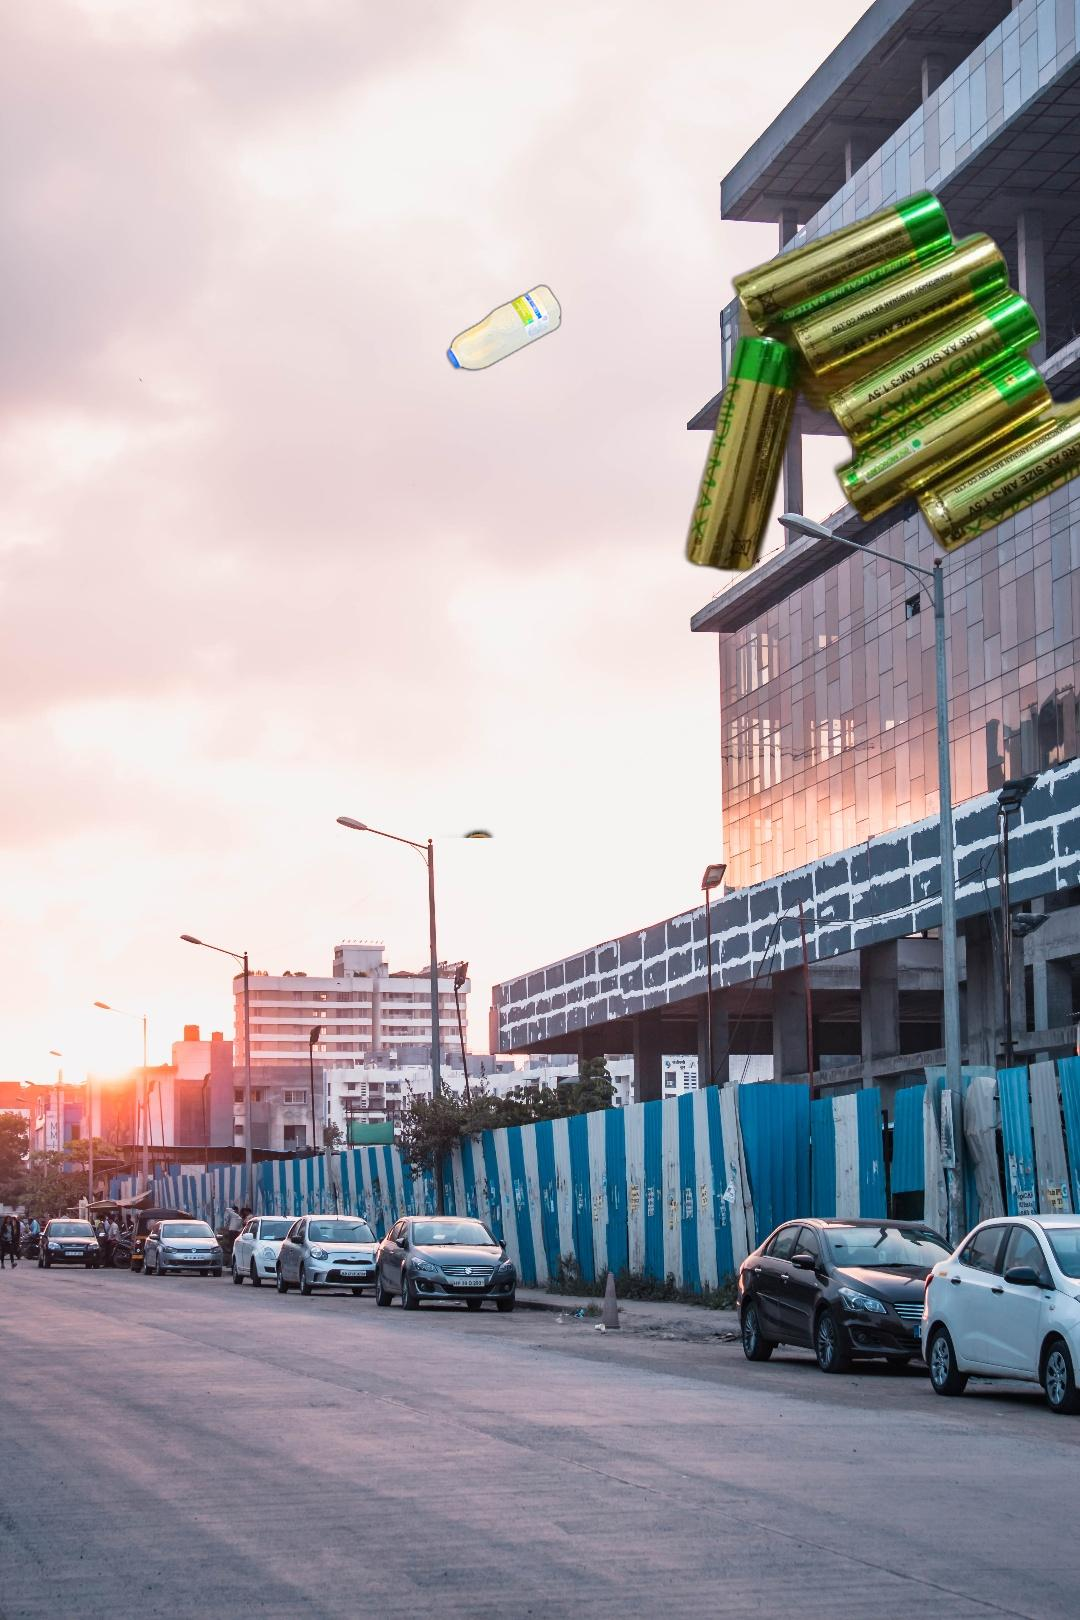battery: (677, 184, 1080, 577)
plastic-bottles: (271, 278, 567, 838)
